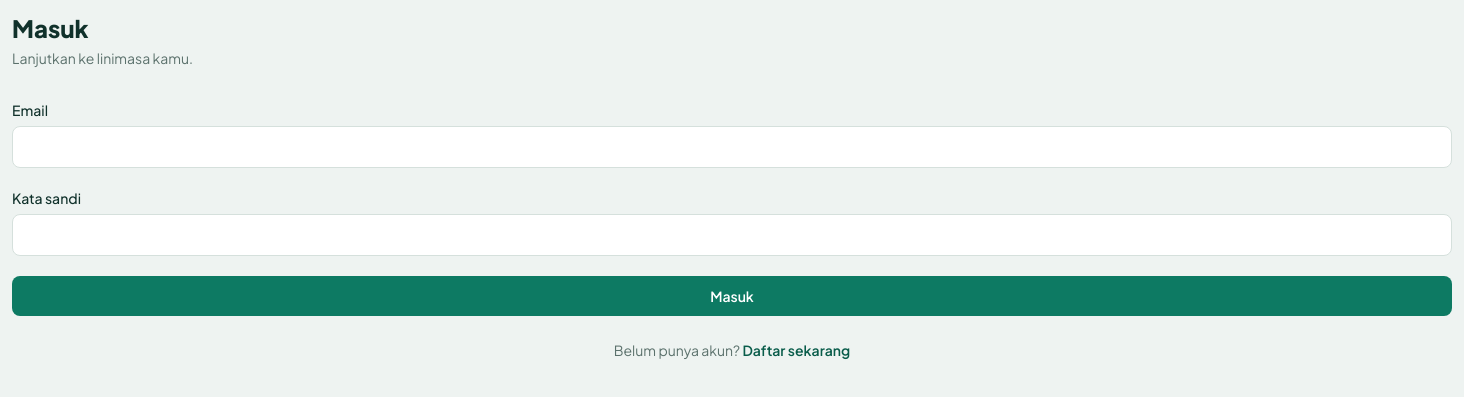
it: LoginPage › menolak format email yang tidak valid
Type "bukan-email" into the field labelled "Email".
click(732, 147); type("bukan-email")  # box [12,126,1452,168]
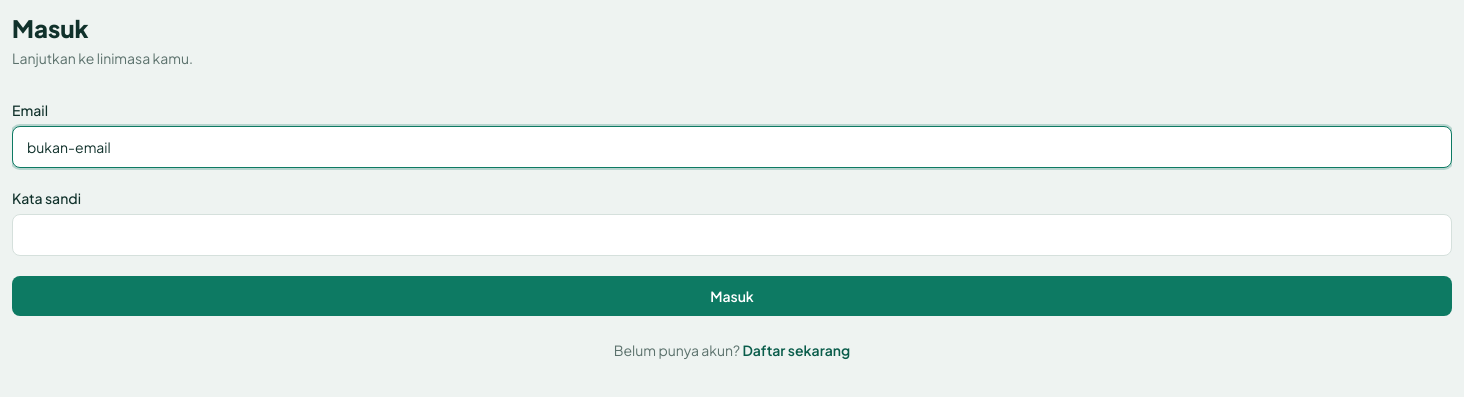
Type "123456" into the password field labelled "Kata sandi".
click(732, 235); type("123456")  # box [12,214,1452,256]
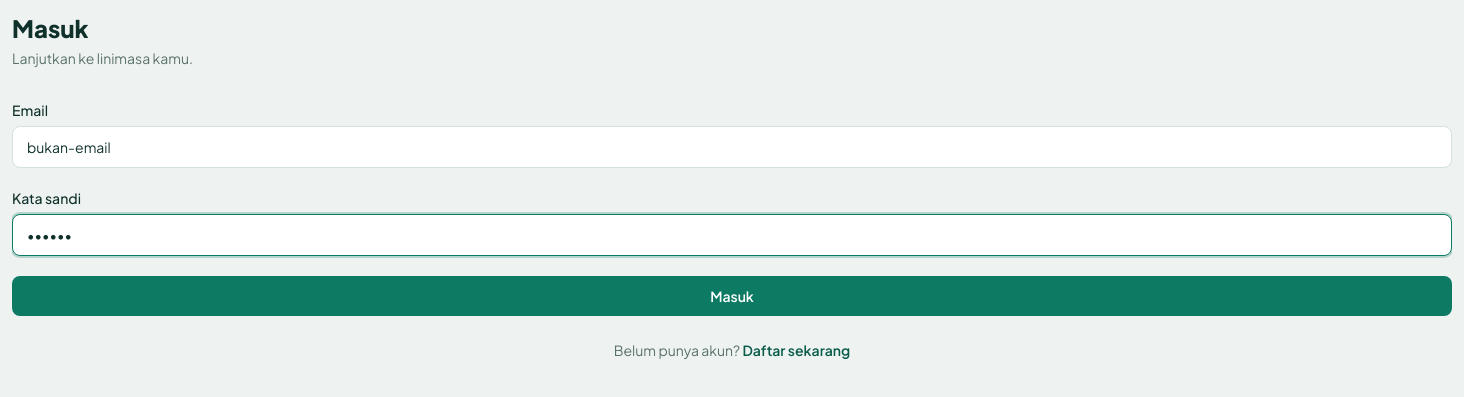
Click the button "Masuk".
click(732, 296)  # box [12,276,1452,316]
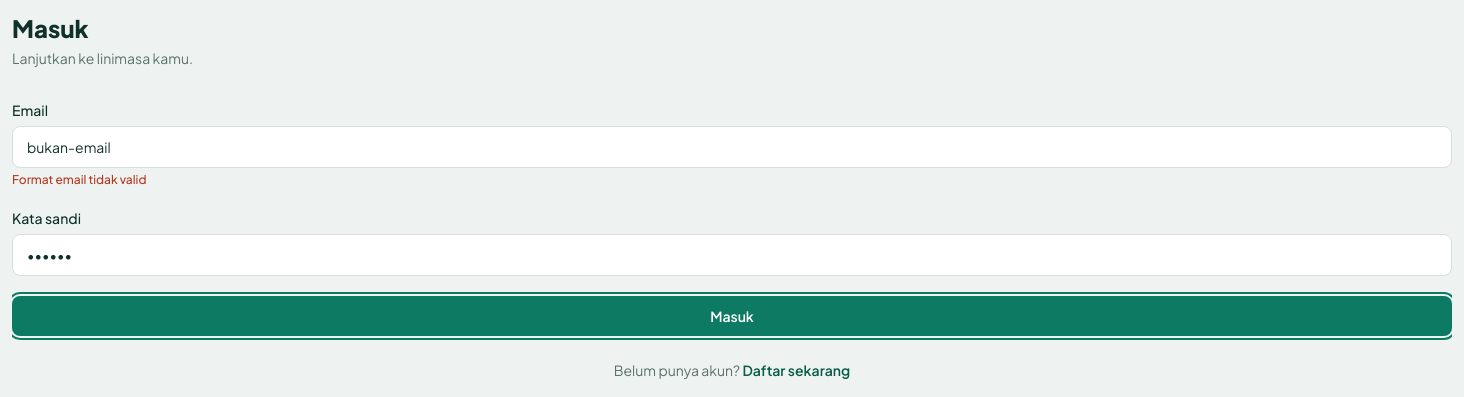
Now the text "Format email tidak valid" is shown, box [12,172,146,187]
